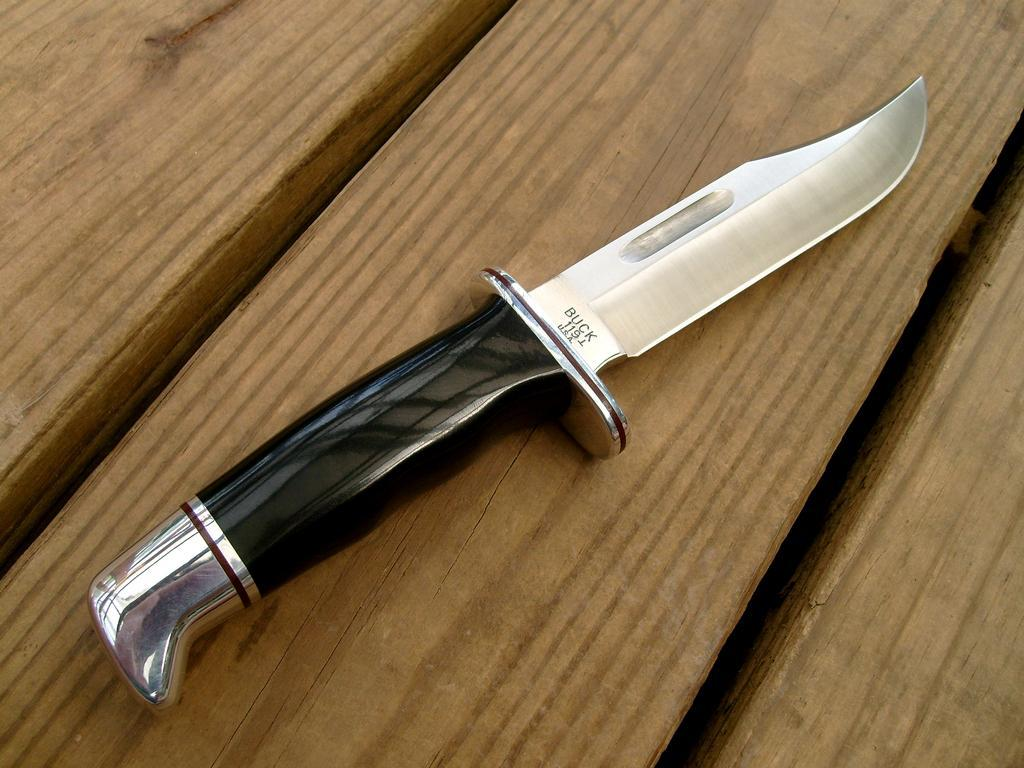knife: (85, 77, 928, 712)
